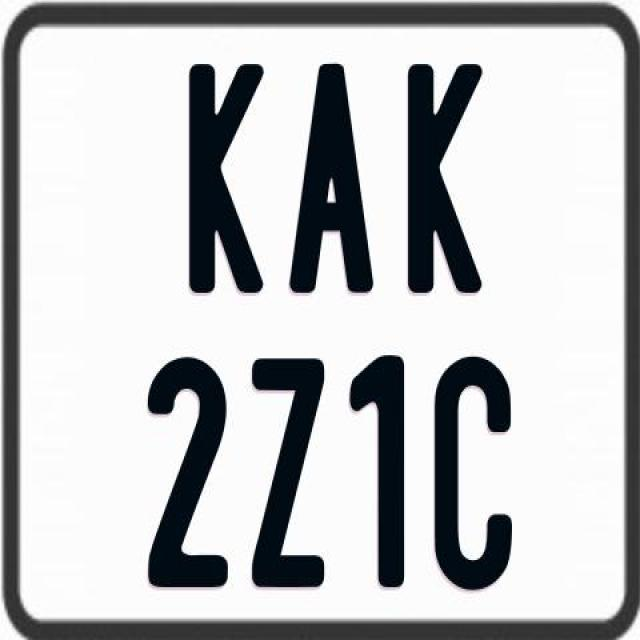1: (348, 353, 406, 588)
2: (146, 357, 234, 597)
A: (290, 61, 374, 292)
C: (434, 352, 514, 595)
K: (404, 64, 479, 302), (188, 63, 264, 294)
Z: (248, 356, 323, 594)
